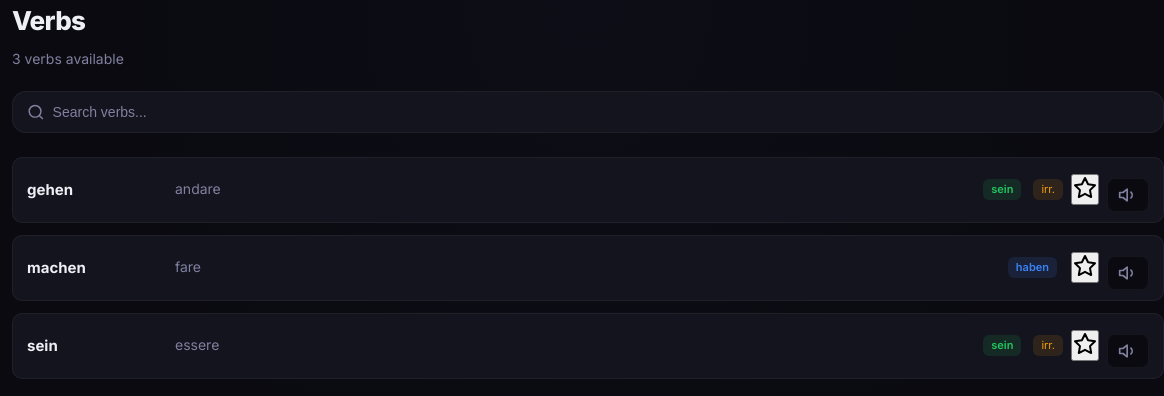
Test: VerbsPage › Verb List View › shows empty state for no results
Type "zzzzz" into the field with placeholder "Search verbs...".
click(601, 112); type("zzzzz")  # box [53,104,1149,120]
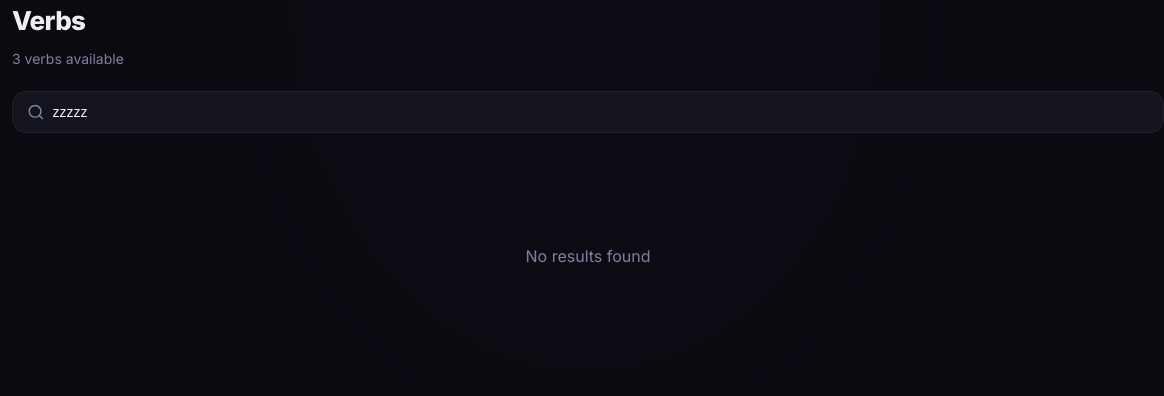
Expected: the text "No results found" is shown, [526,244,650,269]
